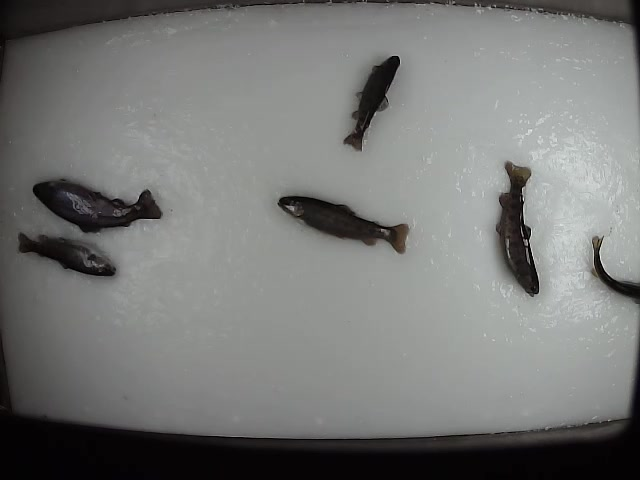fish: (276, 187, 410, 257), (29, 173, 164, 234), (494, 159, 541, 299), (339, 54, 403, 154), (14, 229, 119, 277)
